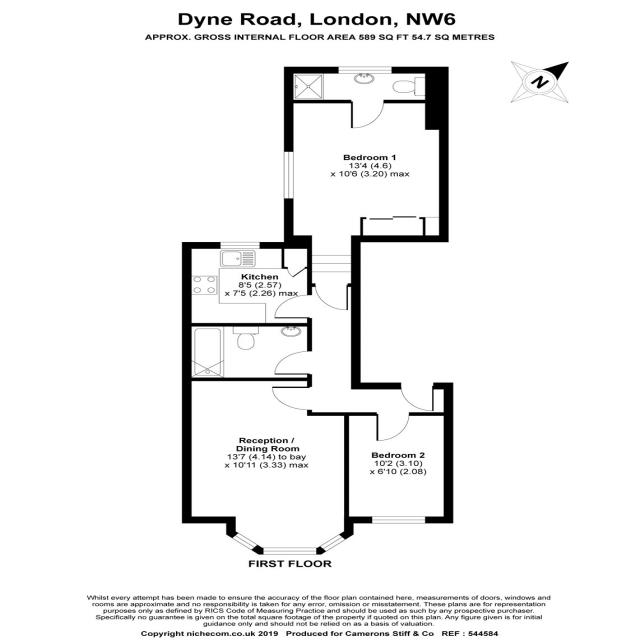DOOR: (350, 99, 385, 129), (271, 386, 313, 411), (400, 382, 435, 412), (376, 412, 410, 442), (314, 283, 350, 311), (273, 294, 313, 319), (274, 351, 313, 375)
ROOM: (283, 100, 449, 311), (181, 377, 354, 555), (344, 412, 454, 523), (181, 242, 313, 327)
WINDOW: (318, 533, 347, 552), (231, 532, 259, 551), (283, 151, 294, 199), (371, 516, 426, 524), (262, 547, 317, 555), (338, 66, 392, 74), (219, 241, 261, 250)
